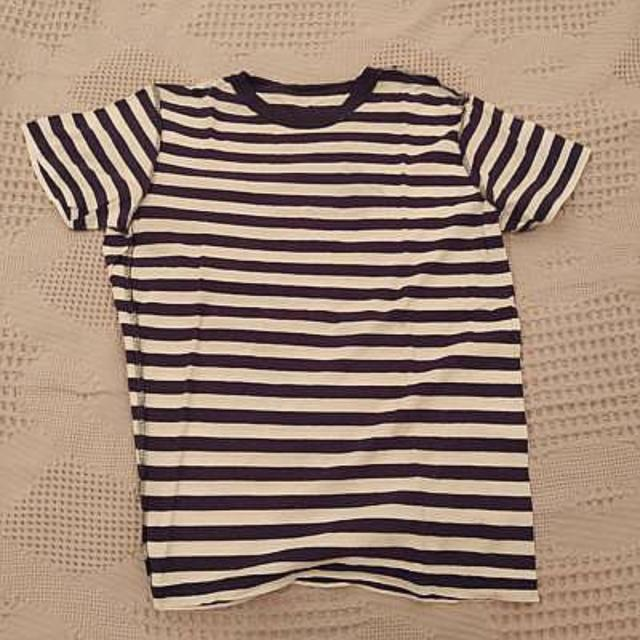T_SHIRT: (12, 55, 603, 616)
